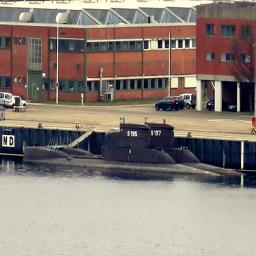submarine: (23, 123, 224, 180), (145, 122, 246, 176)
